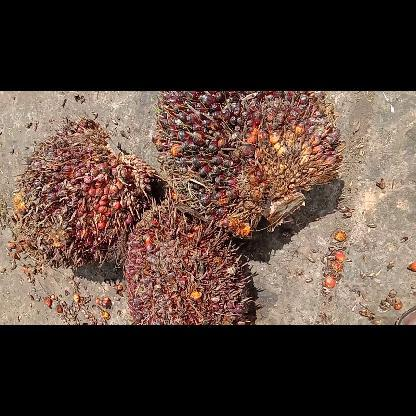Kurang masak: (10, 117, 146, 263)
TBS masak: (150, 91, 346, 238), (120, 202, 262, 324)
